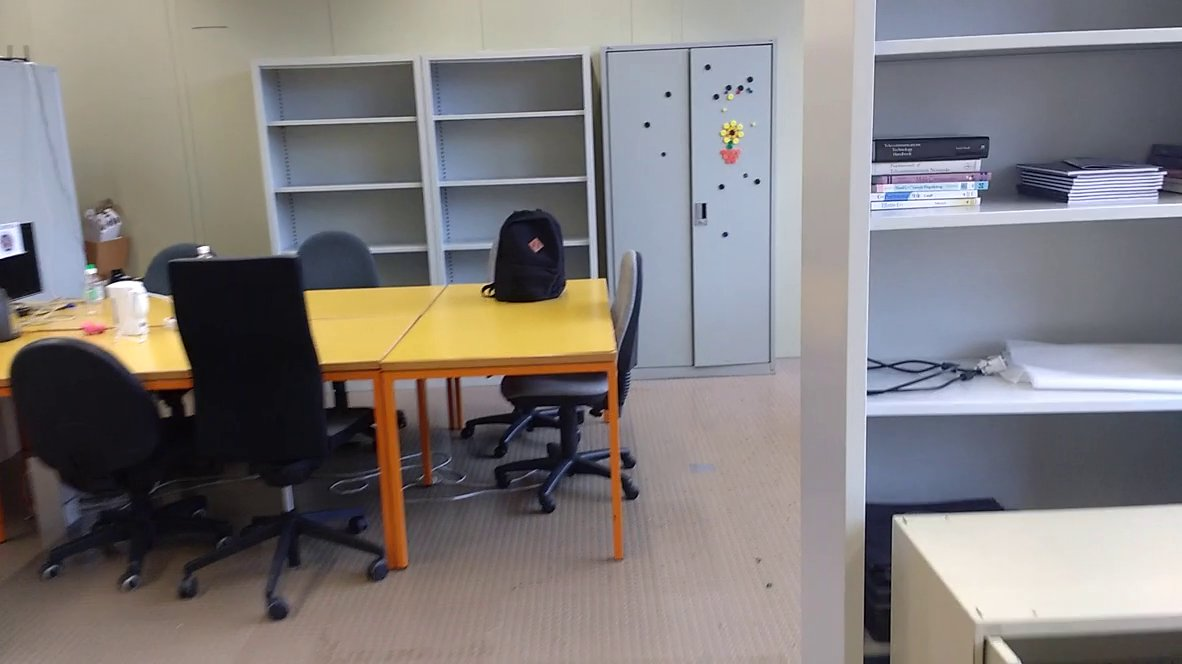bag: (476, 204, 573, 307)
chair: (144, 245, 408, 620), (8, 327, 236, 599), (500, 228, 663, 531), (285, 227, 395, 312)
